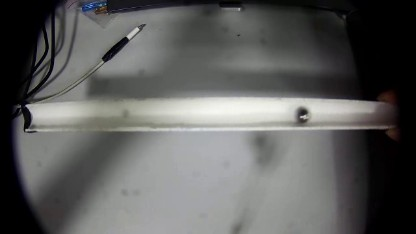gangzhu: (292, 106, 309, 125)
